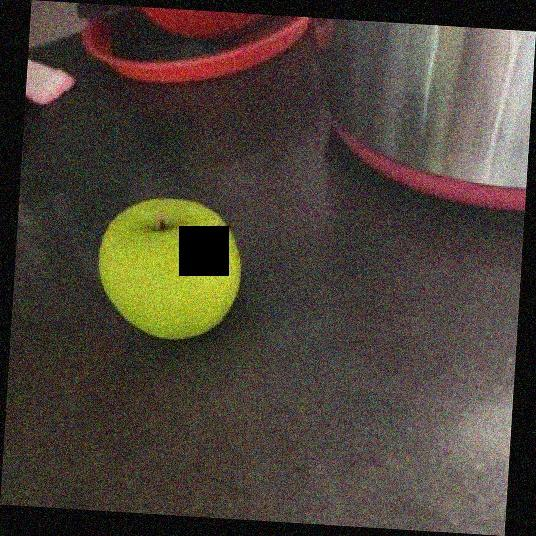green apple: (96, 197, 244, 341)
